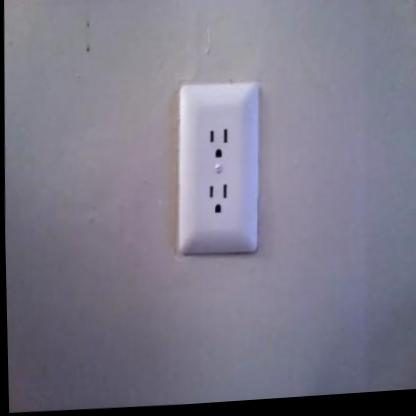OUTLET: (175, 81, 260, 256)
